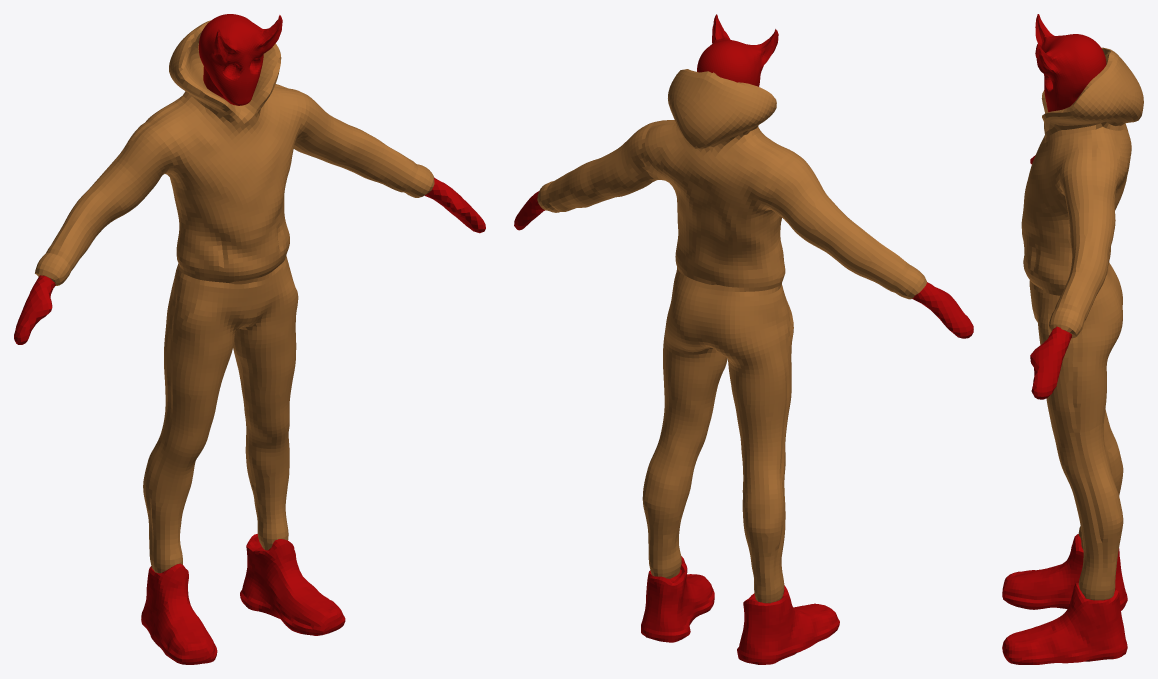
3 renders of one model, left to right at view 1: azimuth 30°, elevation 25°; view 2: azimuth 150°, elevation 25°; view 3: azimuth 270°, elevation 25°, orthographic. The views are drawn at different scales.
Parts seen in each view (by area): view 1: 5c410873a4c1f20a, башмак3D1, голова враг 1 лвл, башмак3D1.001; view 2: 5c410873a4c1f20a, башмак3D1, голова враг 1 лвл, башмак3D1.001; view 3: 5c410873a4c1f20a, башмак3D1, голова враг 1 лвл, башмак3D1.001.
Part boxes in pixels (left/top/right/bottom): 5c410873a4c1f20a: left=35, top=20, right=434, bottom=573; башмак3D1: left=141, top=534, right=345, bottom=664; голова враг 1 лвл: left=198, top=14, right=282, bottom=105; башмак3D1.001: left=14, top=177, right=485, bottom=344; 5c410873a4c1f20a: left=537, top=69, right=926, bottom=603; башмак3D1: left=641, top=556, right=839, bottom=664; голова враг 1 лвл: left=697, top=14, right=778, bottom=86; башмак3D1.001: left=514, top=191, right=973, bottom=338; 5c410873a4c1f20a: left=1021, top=47, right=1143, bottom=600; башмак3D1: left=1002, top=534, right=1127, bottom=664; голова враг 1 лвл: left=1035, top=14, right=1106, bottom=112; башмак3D1.001: left=1030, top=155, right=1071, bottom=399.
Bounding box in the file's own units: 1222 × 1536 × 329.
